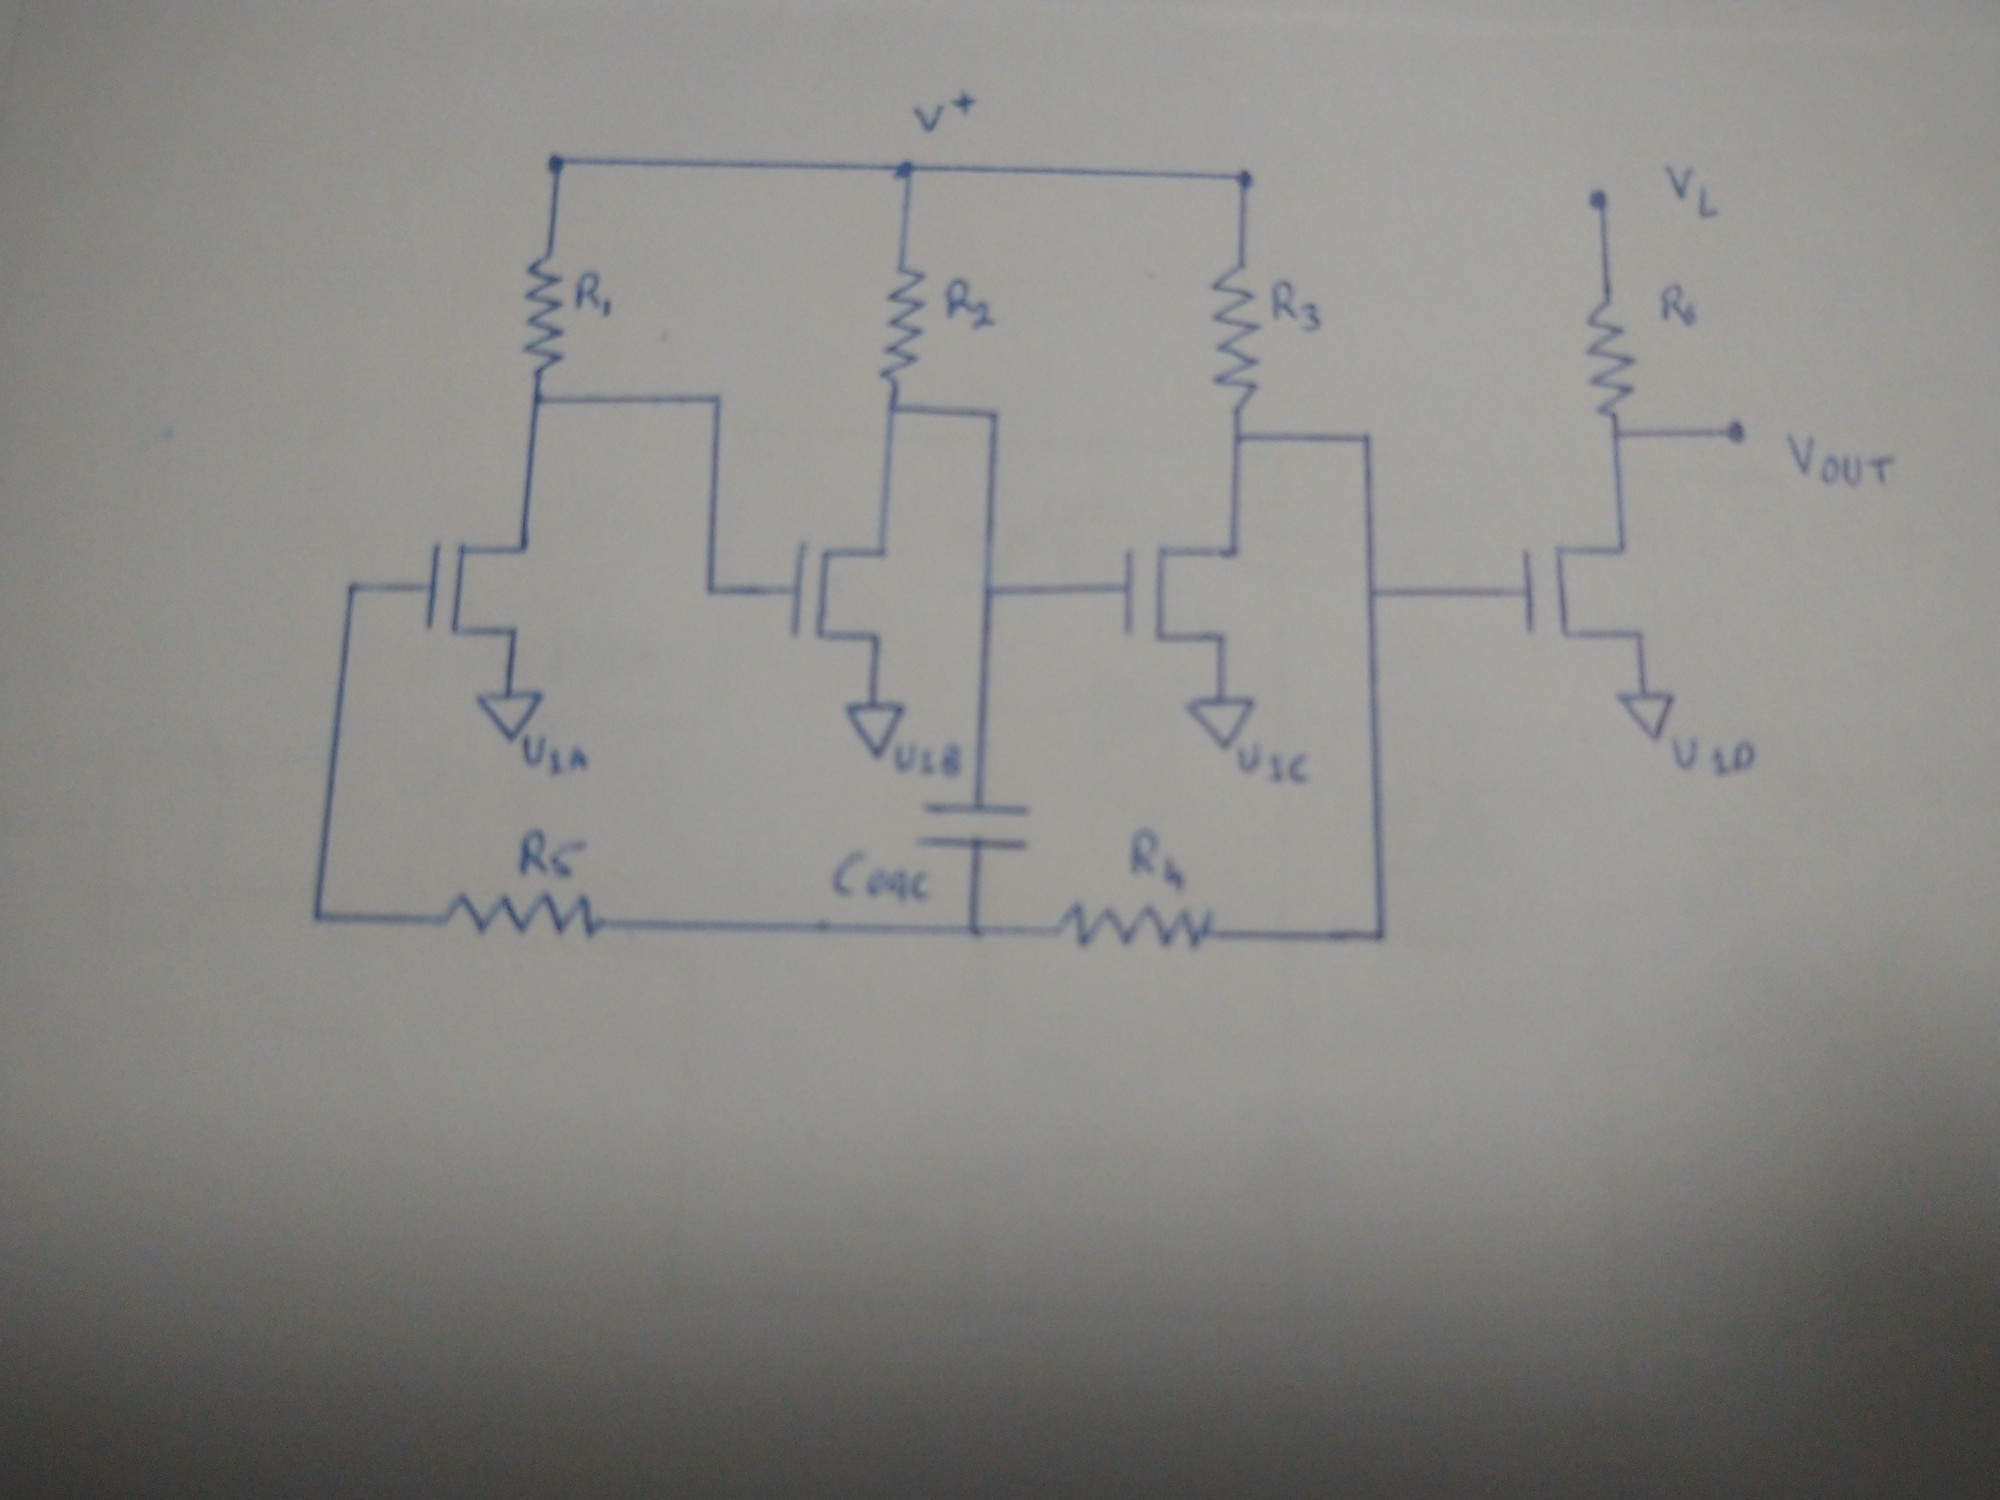capacitor.unpolarized: (917, 796, 1030, 856)
gnd: (1614, 687, 1679, 745)
junction: (1357, 580, 1392, 613), (1602, 425, 1635, 452), (893, 158, 923, 186), (1228, 162, 1258, 191), (964, 917, 991, 944), (545, 148, 573, 173), (702, 577, 724, 605), (1353, 424, 1376, 449), (706, 388, 731, 408), (524, 388, 546, 410), (346, 577, 367, 599), (309, 904, 329, 926), (1369, 922, 1387, 945), (1227, 425, 1249, 444), (983, 407, 1002, 425), (980, 581, 995, 603), (883, 400, 902, 418)
resistor: (1055, 900, 1217, 958), (441, 890, 606, 942), (1205, 258, 1261, 408), (1583, 304, 1639, 422), (518, 251, 565, 378), (877, 265, 924, 381)
terminal: (1183, 693, 1258, 752), (846, 701, 906, 761), (479, 684, 542, 741), (1720, 416, 1756, 451), (1584, 183, 1617, 214)
text: (1780, 430, 1898, 492), (828, 849, 931, 906), (1128, 824, 1195, 892), (1669, 731, 1764, 777), (517, 826, 591, 879), (1658, 164, 1728, 221), (1235, 739, 1313, 786), (943, 274, 1005, 334), (910, 88, 978, 139), (1269, 280, 1323, 334), (894, 741, 964, 782), (521, 741, 589, 778), (573, 269, 619, 318), (1658, 284, 1698, 328)
transistor: (1509, 529, 1663, 651), (1118, 529, 1260, 655), (783, 537, 902, 648), (420, 537, 537, 641)
